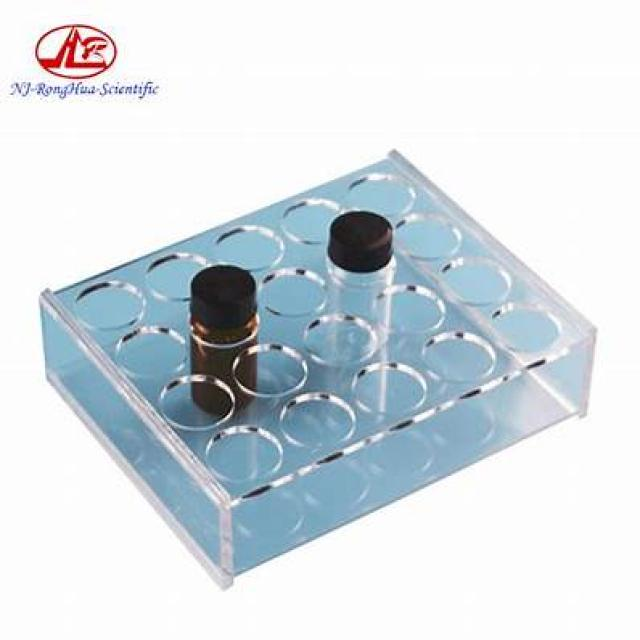vial: (191, 271, 268, 311), (323, 209, 402, 247)
